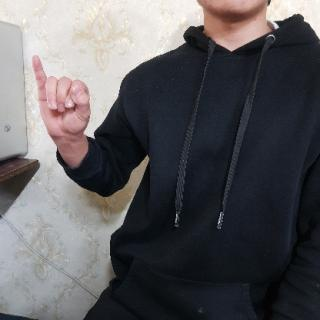MEEM: (27, 52, 94, 147)
